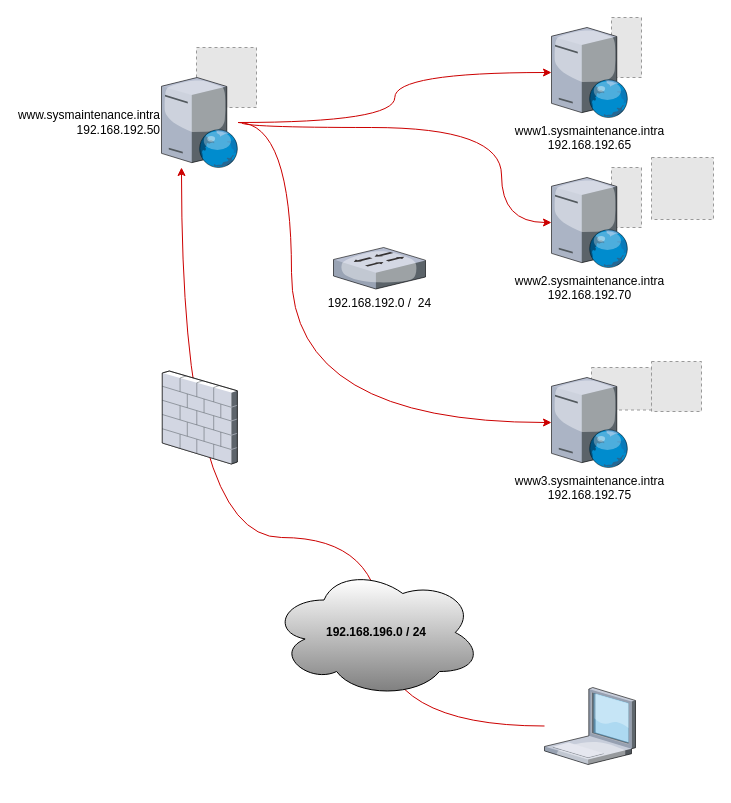
This 731x803 diagram has some shape labels left out. Grey dashed boxes stand in for pictures. Here are the shapes that lost their labels. From the top down, the box of each, then its label:
(162, 370, 237, 464): gw.sysmaintenance.intra
(544, 687, 635, 764): Internet-käyttäjä
